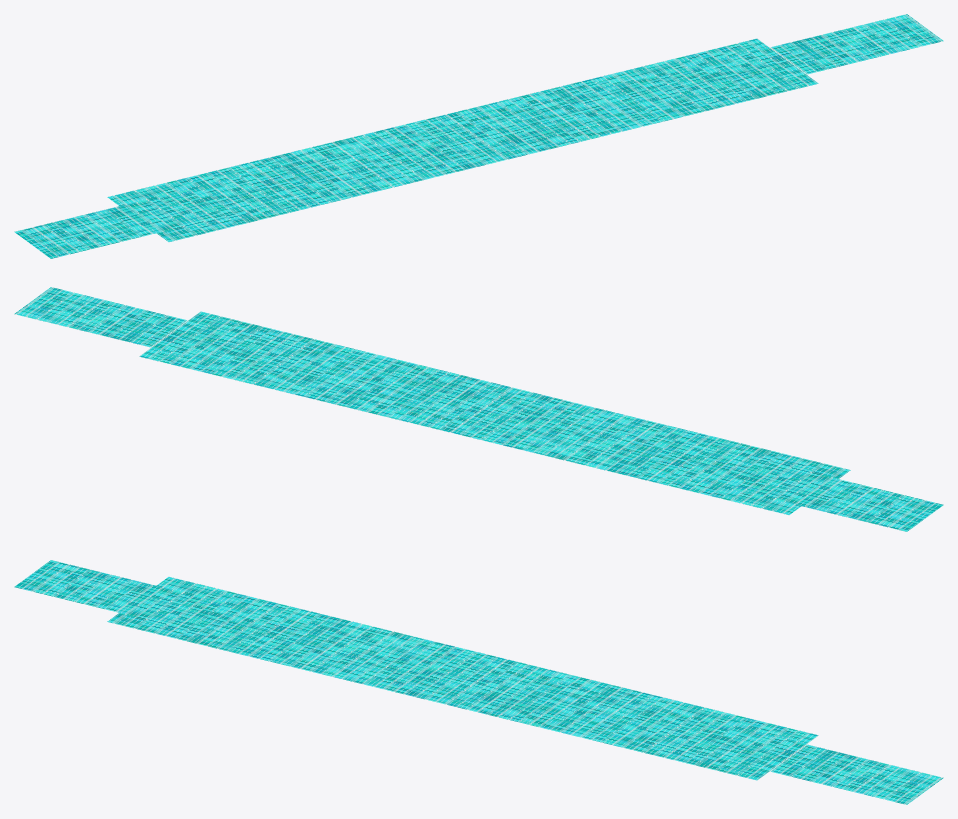
The model's file is DreamPoolFloor.glb.
3 renders of one model, top to bottom at view 1: azimuth 30°, elevation 25°; view 2: azimuth 150°, elevation 25°; view 3: azimuth 330°, elevation 25°, orthographic.
Visible parts, largest first — view 1: DreampoolFloor; view 2: DreampoolFloor; view 3: DreampoolFloor.
Boxes of the visible parts, x1,y1,x2,y2 form: DreampoolFloor: [14, 14, 943, 258]; DreampoolFloor: [14, 287, 943, 531]; DreampoolFloor: [14, 560, 943, 804].
Bounding box in the file's own units: 131 × 0 × 15.73.
Materials: 1 (1 with a texture image).
